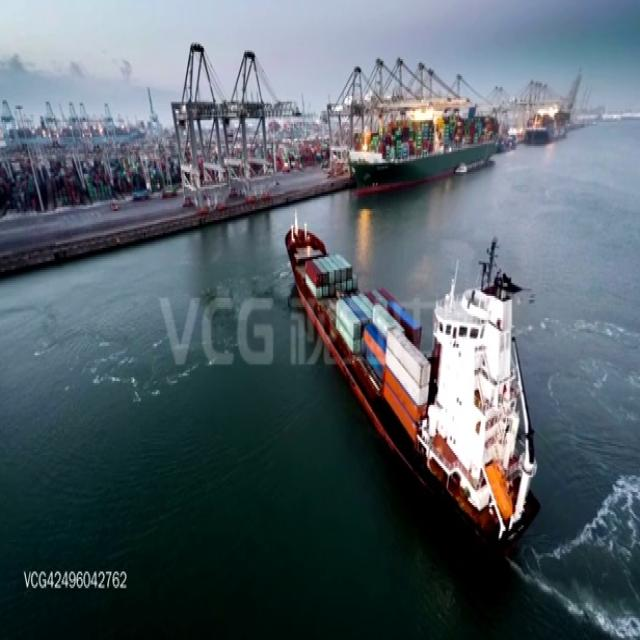cargoship: (286, 205, 540, 558)
